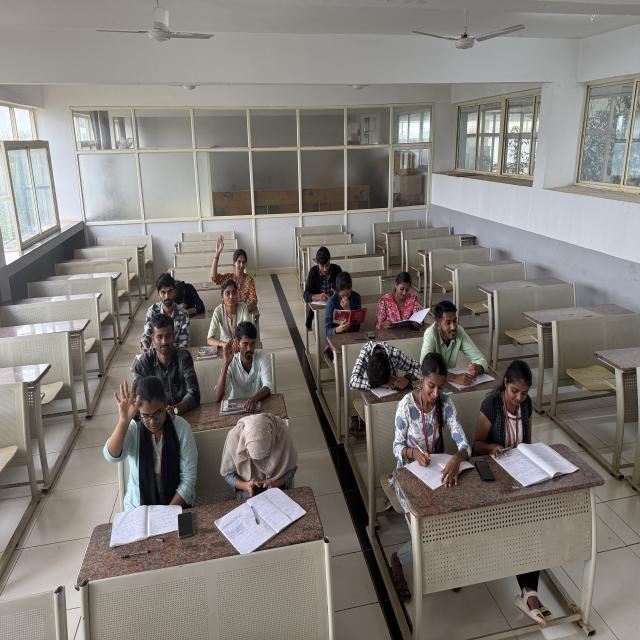Hand Rising: (101, 380, 211, 501), (213, 329, 279, 409), (203, 231, 267, 291)
Reading: (479, 364, 573, 466), (375, 272, 429, 328), (326, 276, 368, 330)
Sleeping: (347, 339, 420, 388), (162, 268, 209, 316)
Using Phone: (214, 412, 309, 492)
Writing: (400, 362, 468, 478)
